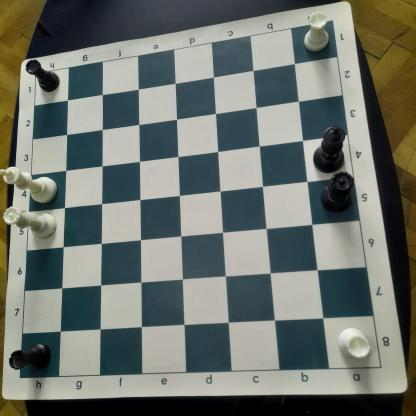black-king: (310, 122, 349, 176)
black-queen: (316, 168, 358, 216)
black-rook: (5, 340, 53, 375), (23, 55, 62, 92)
white-king: (0, 164, 62, 206)
white-queen: (2, 204, 61, 244)
white-rook: (299, 10, 335, 54), (334, 324, 373, 363)
